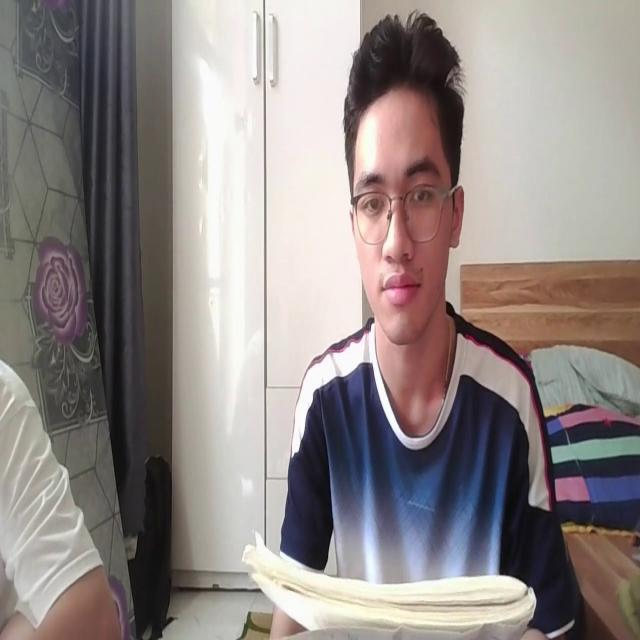book: (238, 526, 534, 640)
student: (272, 26, 574, 640)
